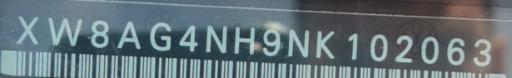letter: (42, 12, 86, 47), (144, 18, 176, 51), (114, 18, 144, 53), (14, 12, 42, 47), (202, 21, 230, 55), (284, 24, 312, 58), (174, 18, 202, 51), (444, 35, 472, 68), (232, 22, 256, 60), (259, 26, 287, 58), (472, 34, 498, 68), (312, 29, 340, 58), (366, 30, 390, 63), (393, 31, 417, 64), (420, 32, 442, 67), (87, 17, 111, 48), (343, 27, 365, 60)
